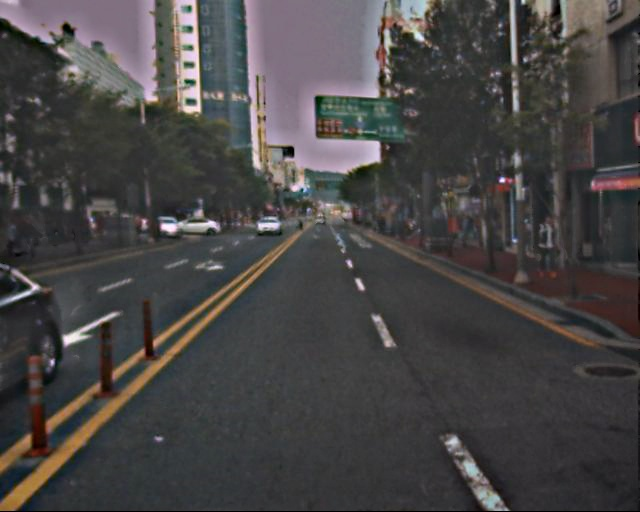person: (526, 215, 560, 282), (551, 217, 576, 277), (458, 208, 478, 250)
